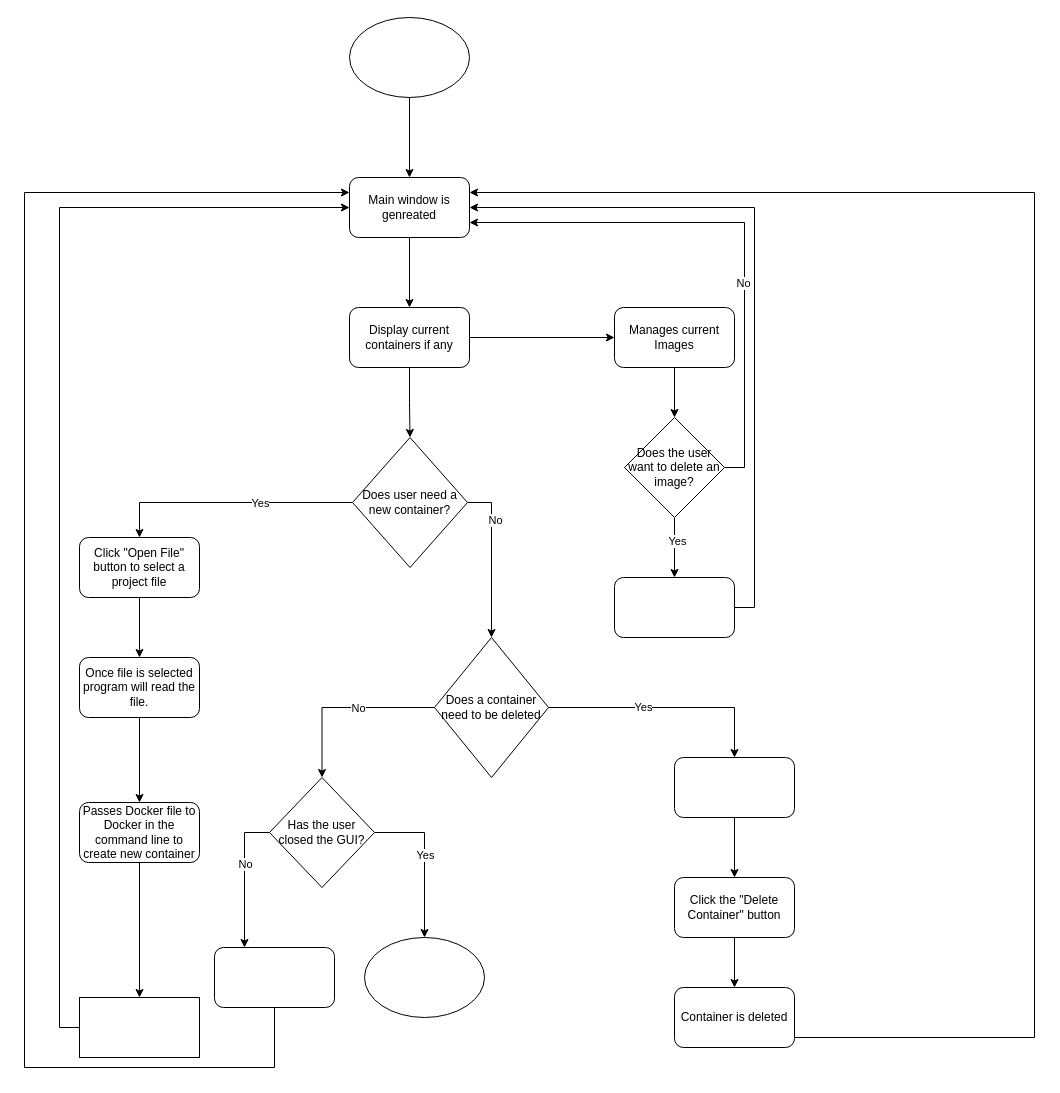
This 1060x1093 diagram has some shape labels left out. Here are the shapes that lost their labels. From the top down, the centre of each, then its label:
pixel 409 57: Start
pixel 674 607: Image is deleted from the list and from docker
pixel 734 787: Select a container from the list displayed
pixel 274 977: The user is still working
pixel 424 977: End
pixel 139 1027: Return to main window
